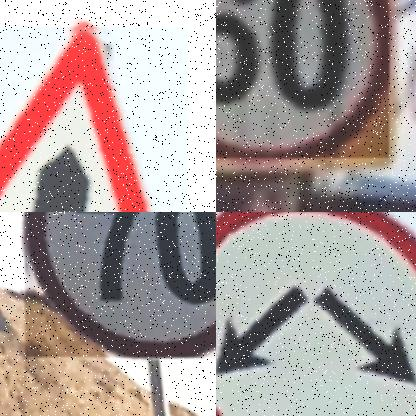Cross Roads: (0, 27, 143, 212)
Road Divides: (216, 212, 416, 416)
Speed Limit -60 kmph-: (216, 0, 395, 167), (216, 0, 389, 158)
Speed Limit -70 kmph-: (26, 212, 216, 357)
